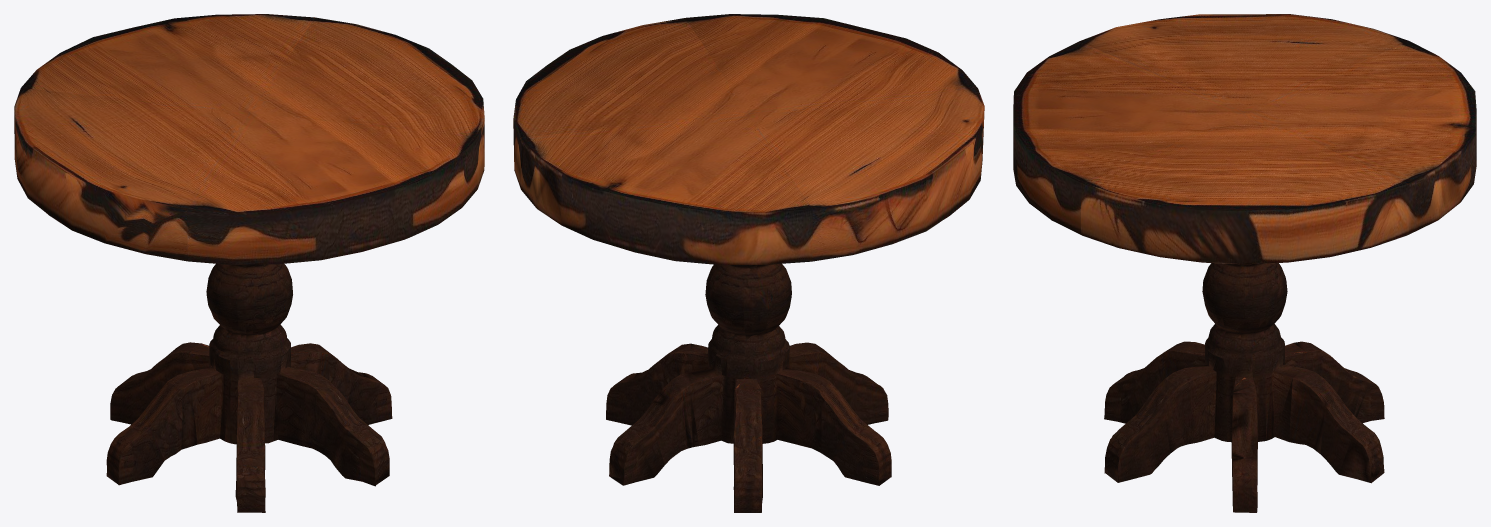
The model's file is round-table.glb.
The picture shows the model from 3 angles, left to right: view 1: azimuth 30°, elevation 25°; view 2: azimuth 150°, elevation 25°; view 3: azimuth 270°, elevation 25°; orthographic projection.
Bounding box in the file's own units: 0.95 × 0.76 × 0.95.
Materials: 1 (1 with a texture image).
